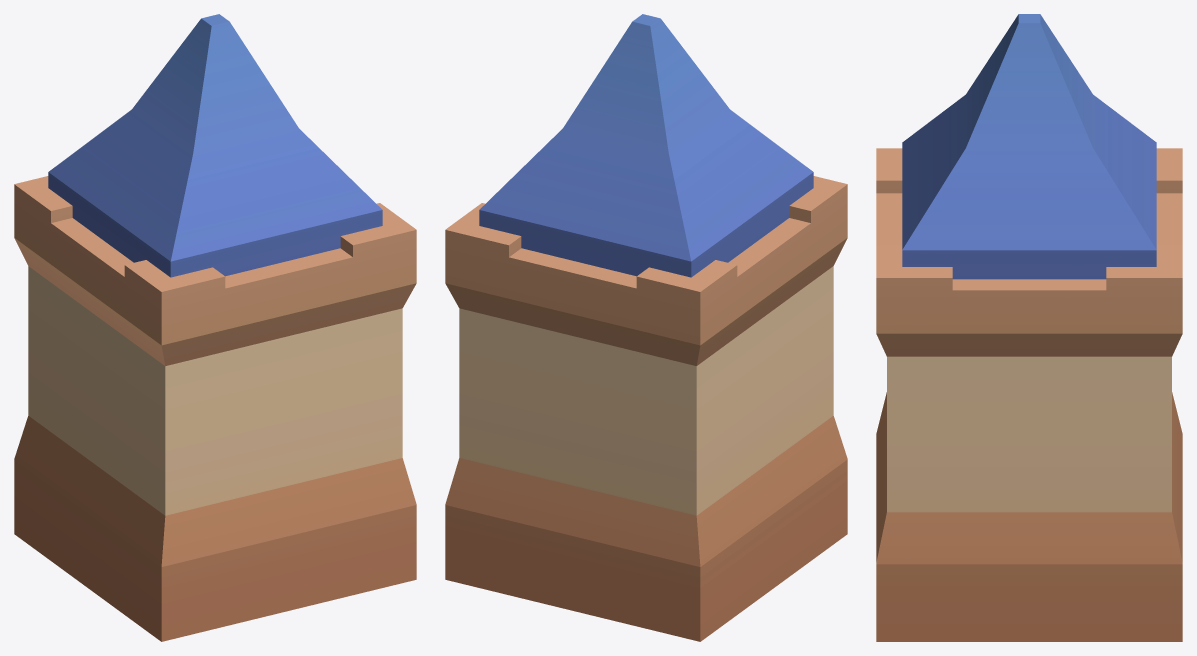
File: kenney-castle-tower-square-roof.glb
The picture shows the model from 3 angles, left to right: view 1: azimuth 30°, elevation 25°; view 2: azimuth 150°, elevation 25°; view 3: azimuth 270°, elevation 25°; orthographic projection. The views are drawn at different scales.
Visible parts, largest first — view 1: tower-square-roof; view 2: tower-square-roof; view 3: tower-square-roof.
Boxes of the visible parts, x1,y1,x2,y2 form: tower-square-roof: [14, 14, 416, 641]; tower-square-roof: [445, 14, 847, 641]; tower-square-roof: [876, 14, 1182, 641].
Bounding box in the file's own units: 0.9999 × 2.01 × 0.9999.
Materials: 1 (1 with a texture image).
